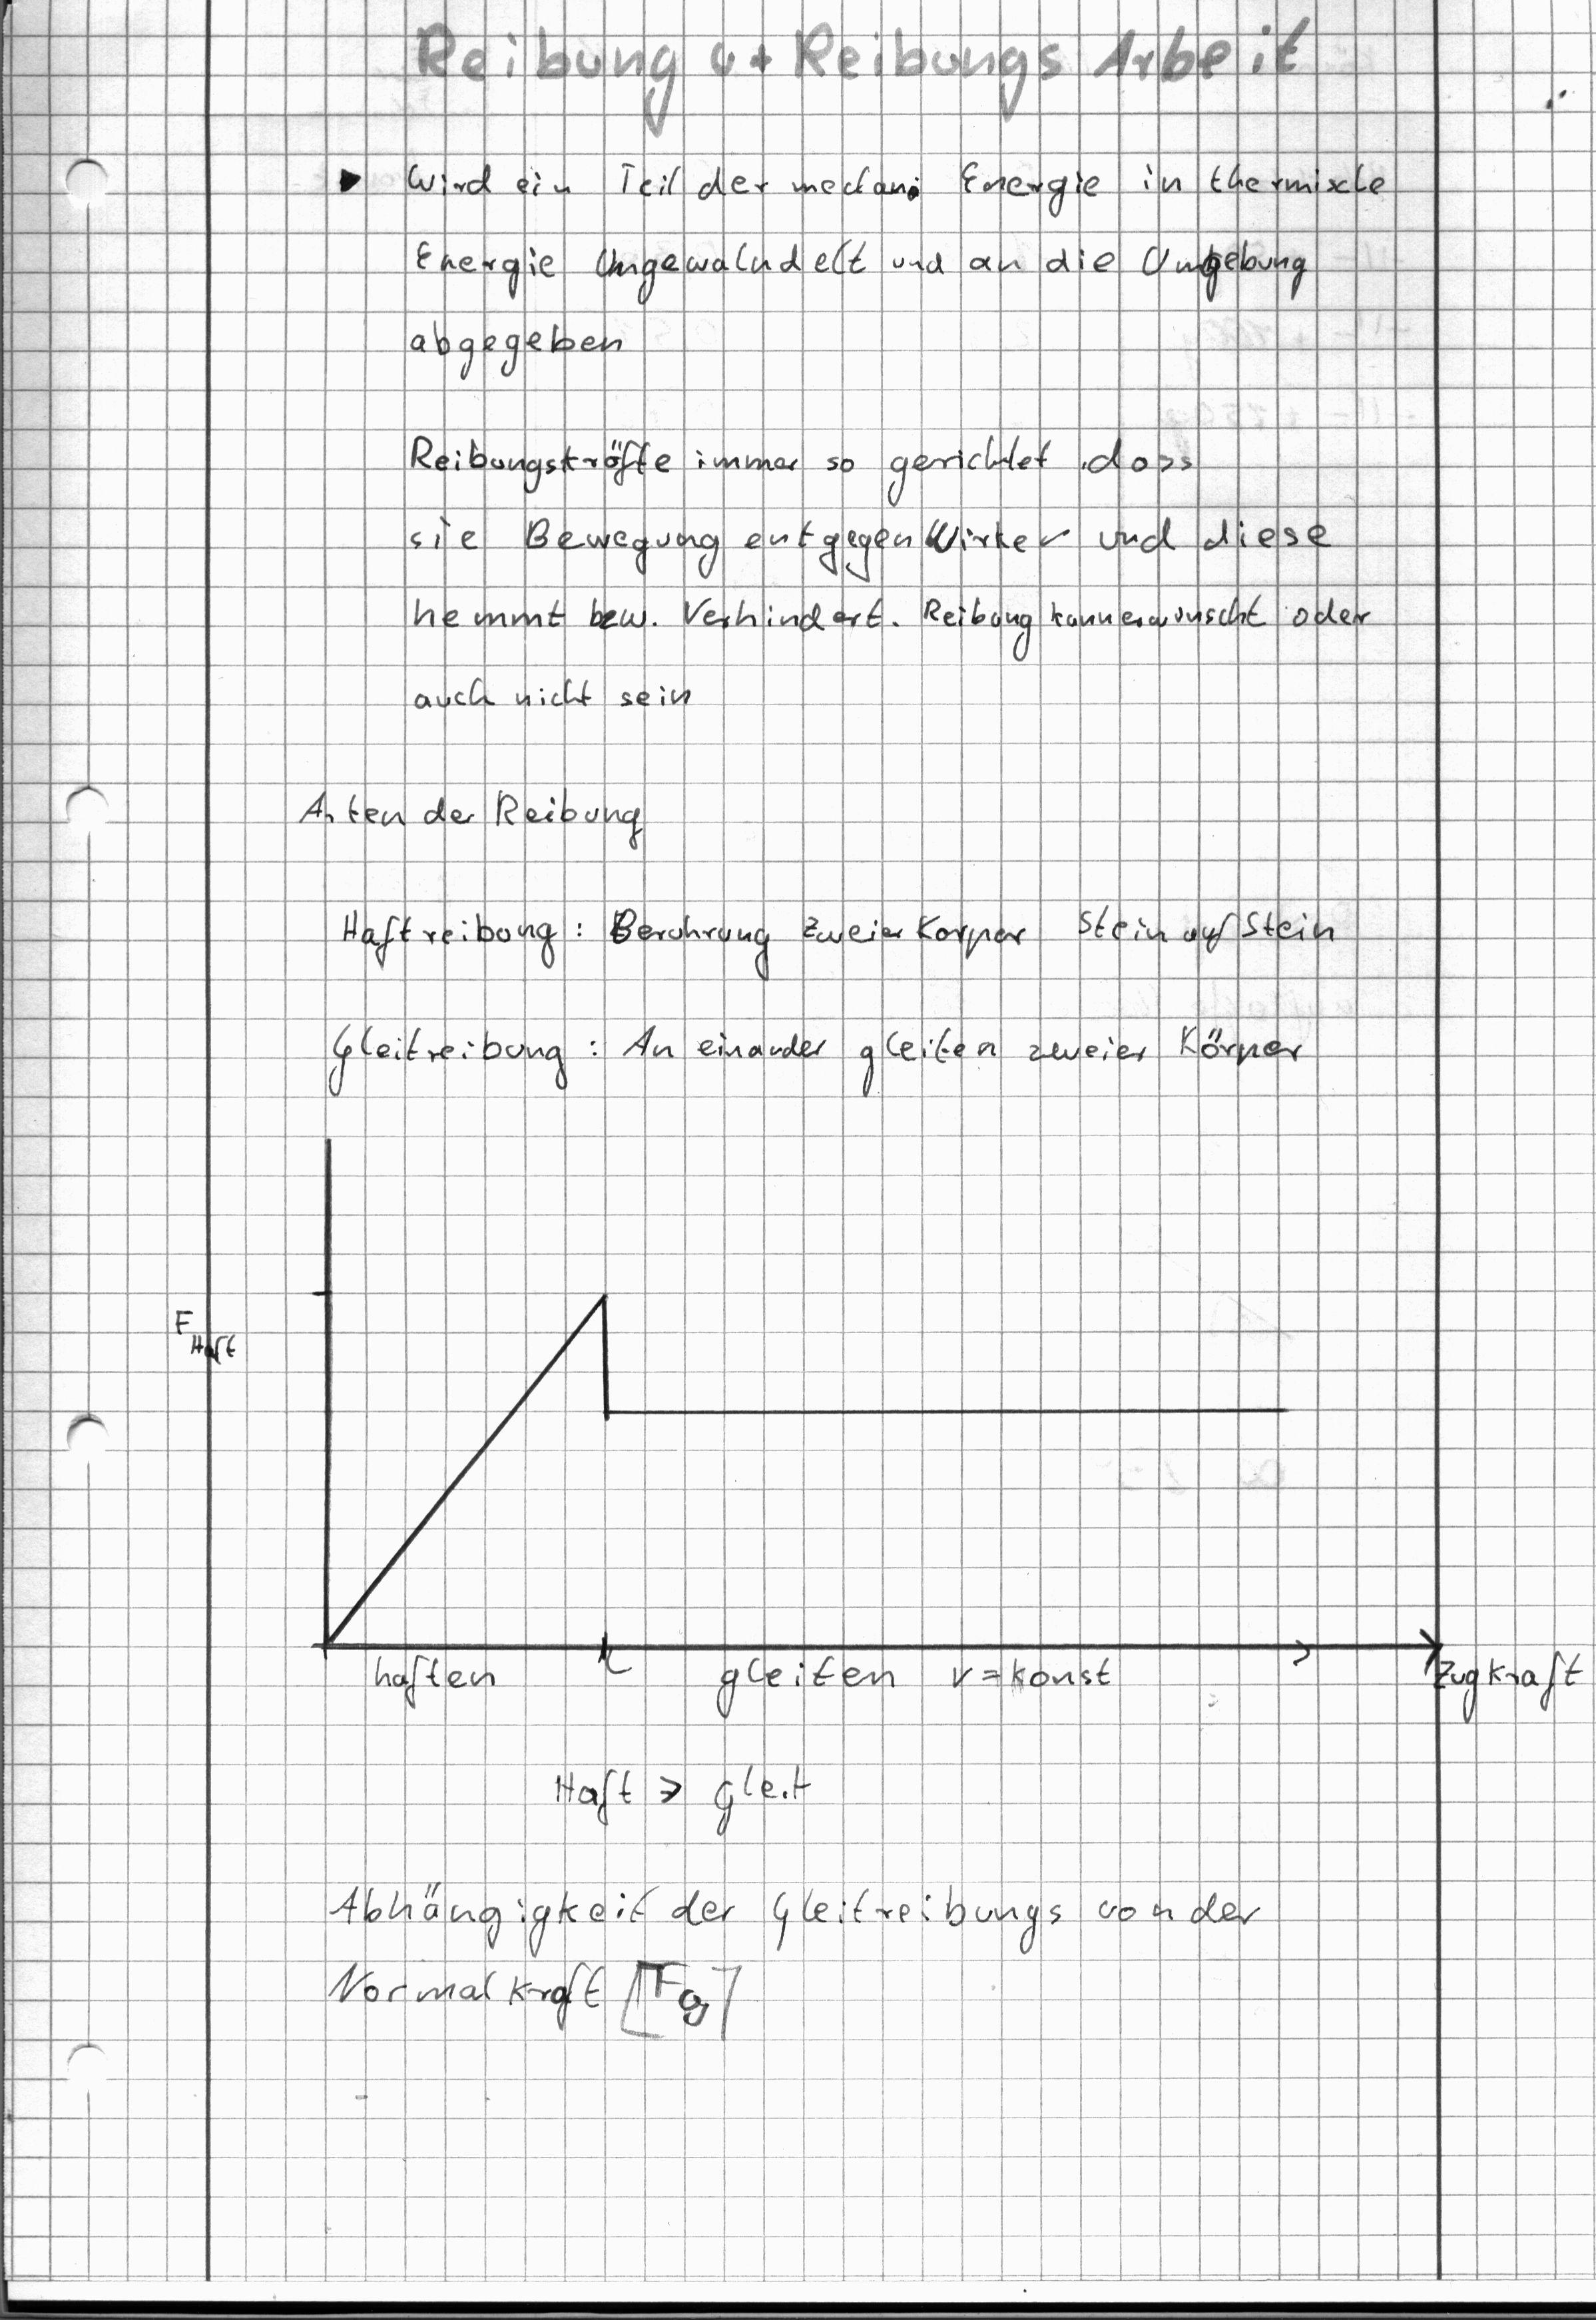word: (389, 416, 1390, 725), (389, 138, 1398, 392), (318, 1865, 1286, 2067), (327, 890, 1344, 992), (323, 1010, 1316, 1106), (284, 766, 672, 868)
